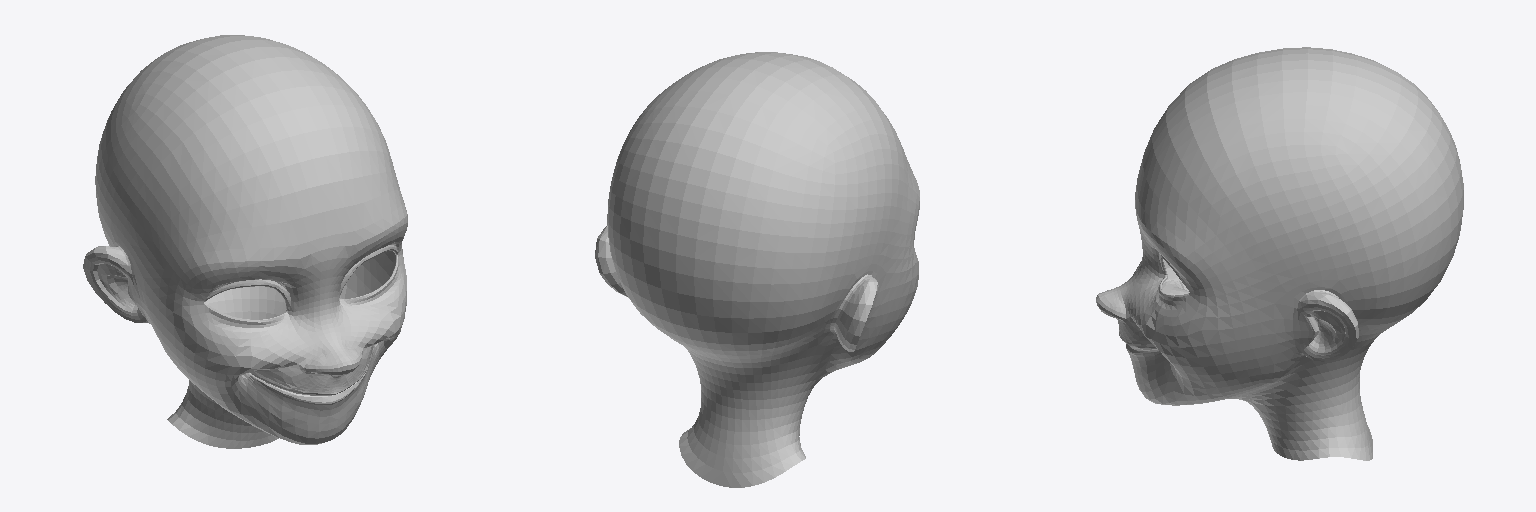
File: pos5.obj
3 views of the same model, side by side, from view 1: azimuth 30°, elevation 25°; view 2: azimuth 150°, elevation 25°; view 3: azimuth 270°, elevation 25° (orthographic).
Parts seen in each view (by area): view 1: Mesh; view 2: Mesh; view 3: Mesh.
Boxes of the visible parts, x1,y1,x2,y2 form: Mesh: [83, 35, 407, 448]; Mesh: [595, 52, 919, 487]; Mesh: [1096, 47, 1463, 460].
Bounding box in the file's own units: 23.75 × 32.31 × 27.53.